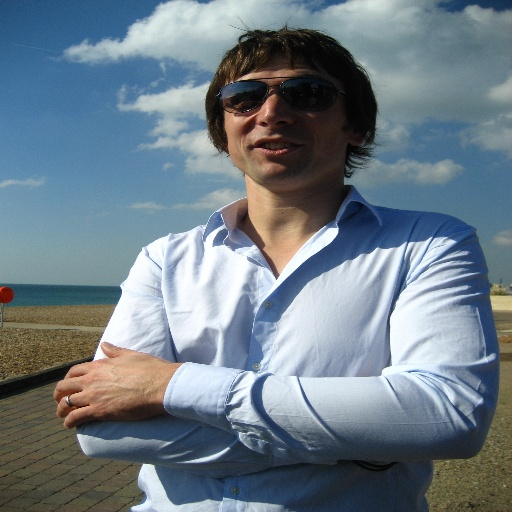hand: (52, 352, 161, 422)
